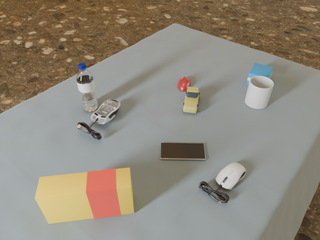bottle: (76, 63, 98, 112)
box: (35, 168, 134, 224), (246, 63, 273, 85)
cup: (245, 76, 274, 109)
mouse: (216, 163, 246, 189), (91, 100, 120, 124), (178, 77, 190, 91)
phone: (160, 143, 206, 160)
toy_car: (183, 86, 200, 113)
